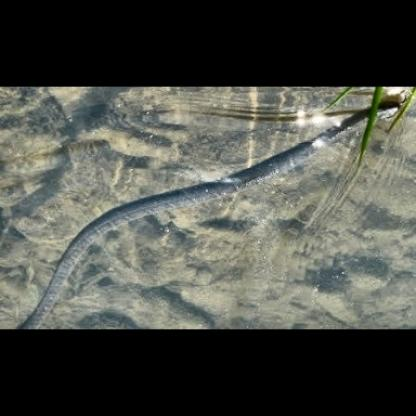Snake: (6, 89, 408, 343)
